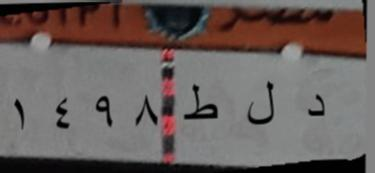1: (12, 92, 28, 134)
4: (50, 90, 75, 135)
8: (132, 93, 160, 132)
9: (89, 88, 117, 134)
Taa: (179, 82, 222, 130)
daal: (300, 90, 331, 124)
laam: (240, 73, 279, 133)
